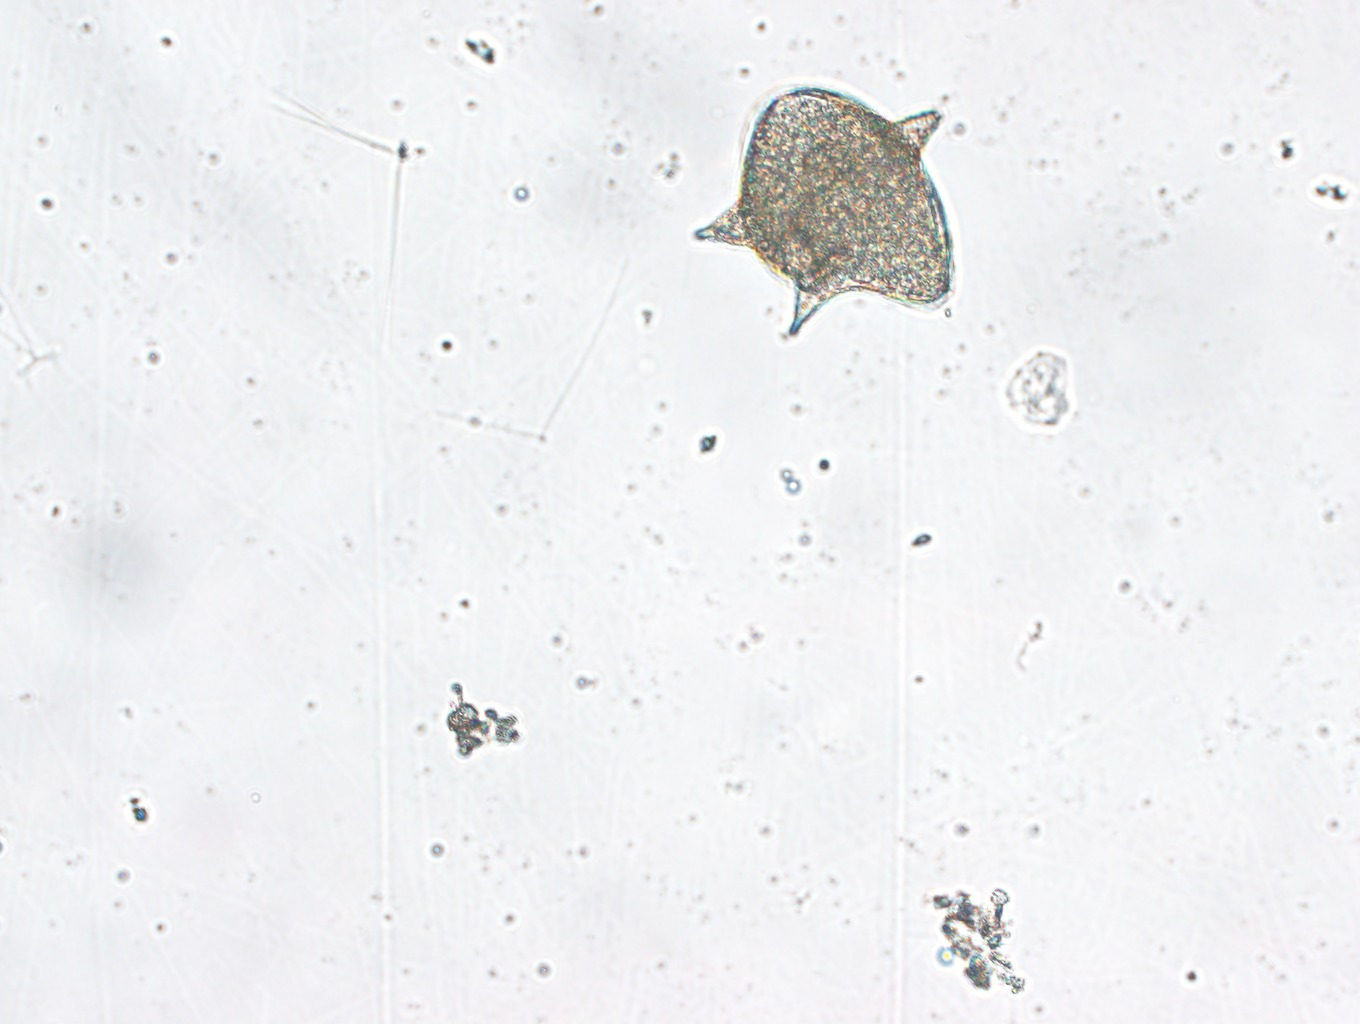protoperidinium: (695, 83, 955, 337)
